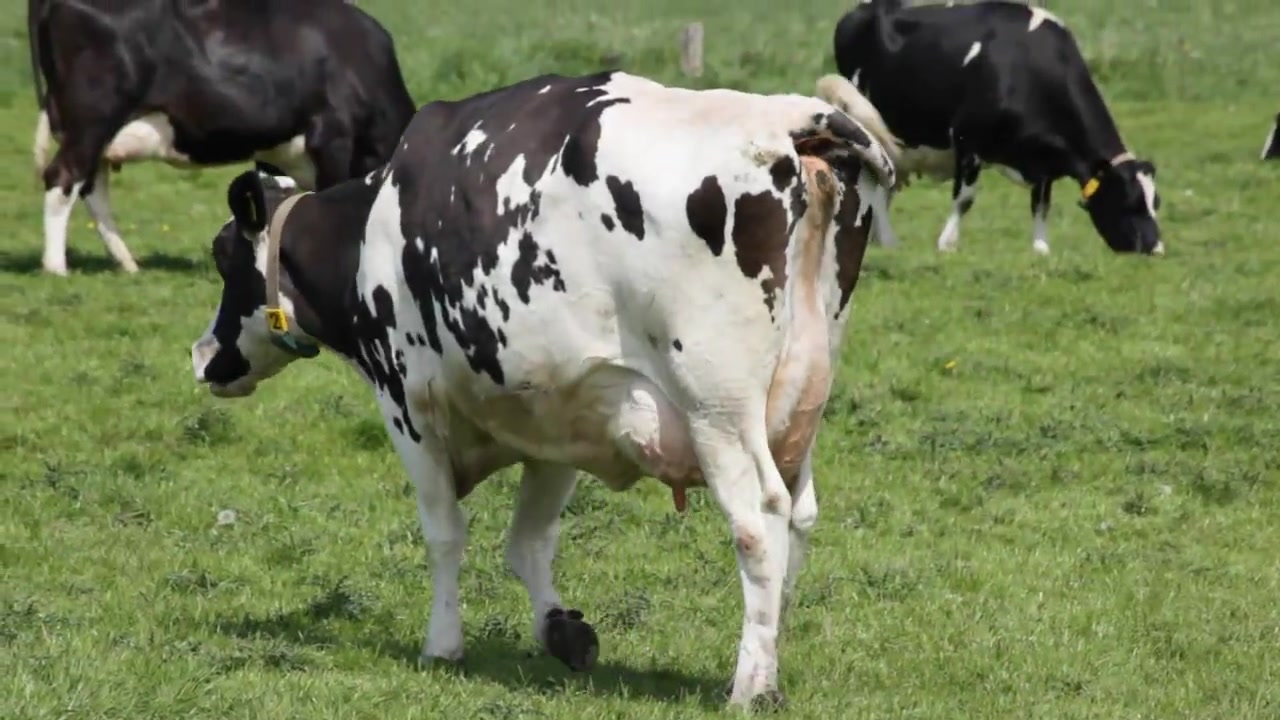cow: (189, 72, 903, 719)
